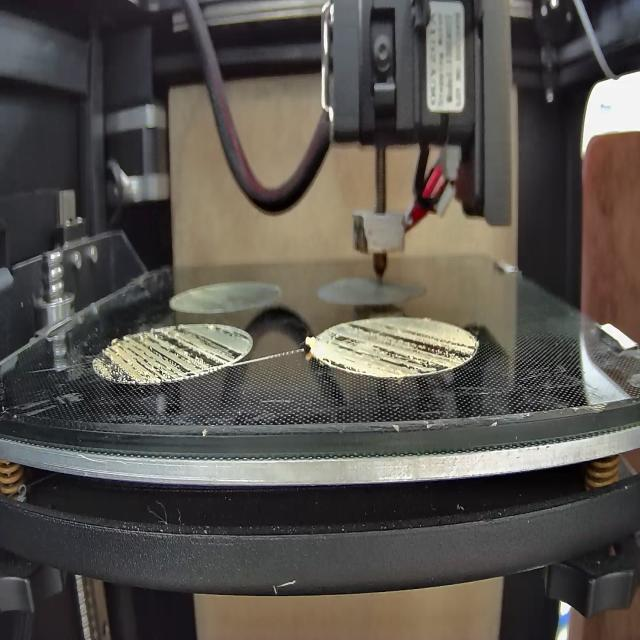under_extrusion: (95, 320, 245, 373), (322, 324, 480, 374)
